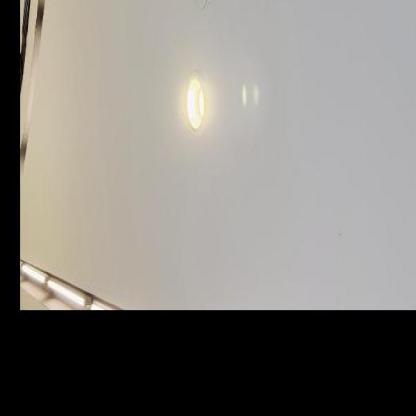light_on: (176, 63, 210, 151)
